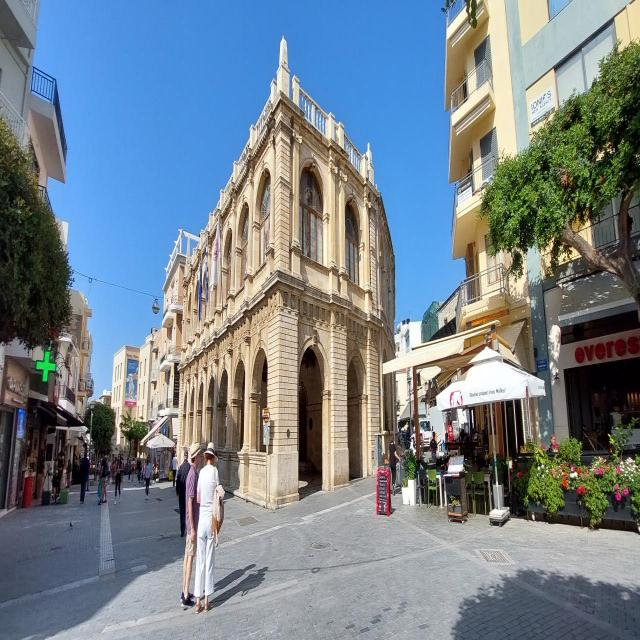Loggia: (178, 32, 398, 520)
